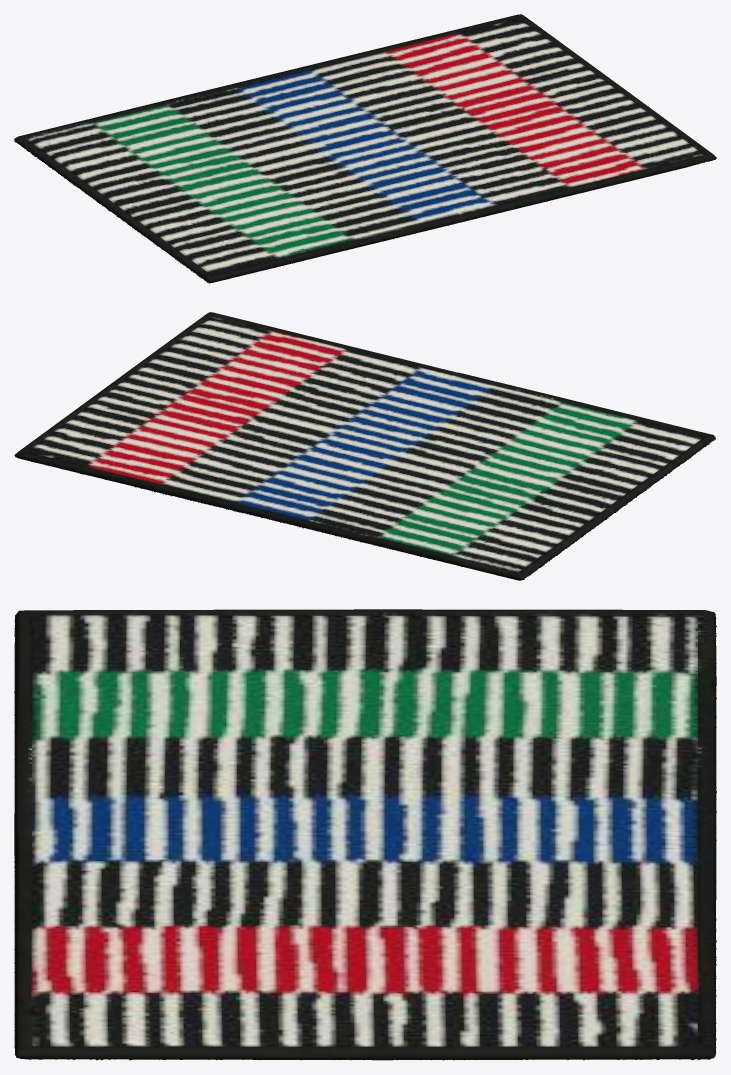
Rendered from 17 - VÄNDPLATS Door mat - multicolourstripe 40x60 cm.glb.
3 views of the same model, one above another, from view 1: azimuth 30°, elevation 25°; view 2: azimuth 150°, elevation 25°; view 3: azimuth 270°, elevation 25° (orthographic). The views are drawn at different scales.
Visible parts, largest first — view 1: ASY_ART_40600953_S01_NV01; view 2: ASY_ART_40600953_S01_NV01; view 3: ASY_ART_40600953_S01_NV01.
Part boxes in pixels (x1,y1,x2,y2): ASY_ART_40600953_S01_NV01: (14, 14, 716, 283); ASY_ART_40600953_S01_NV01: (14, 312, 715, 580); ASY_ART_40600953_S01_NV01: (14, 609, 716, 1060).
Size of the model in its own units: 0.6001 by 0.00649 by 0.3999.
1 material, 1 textured.
